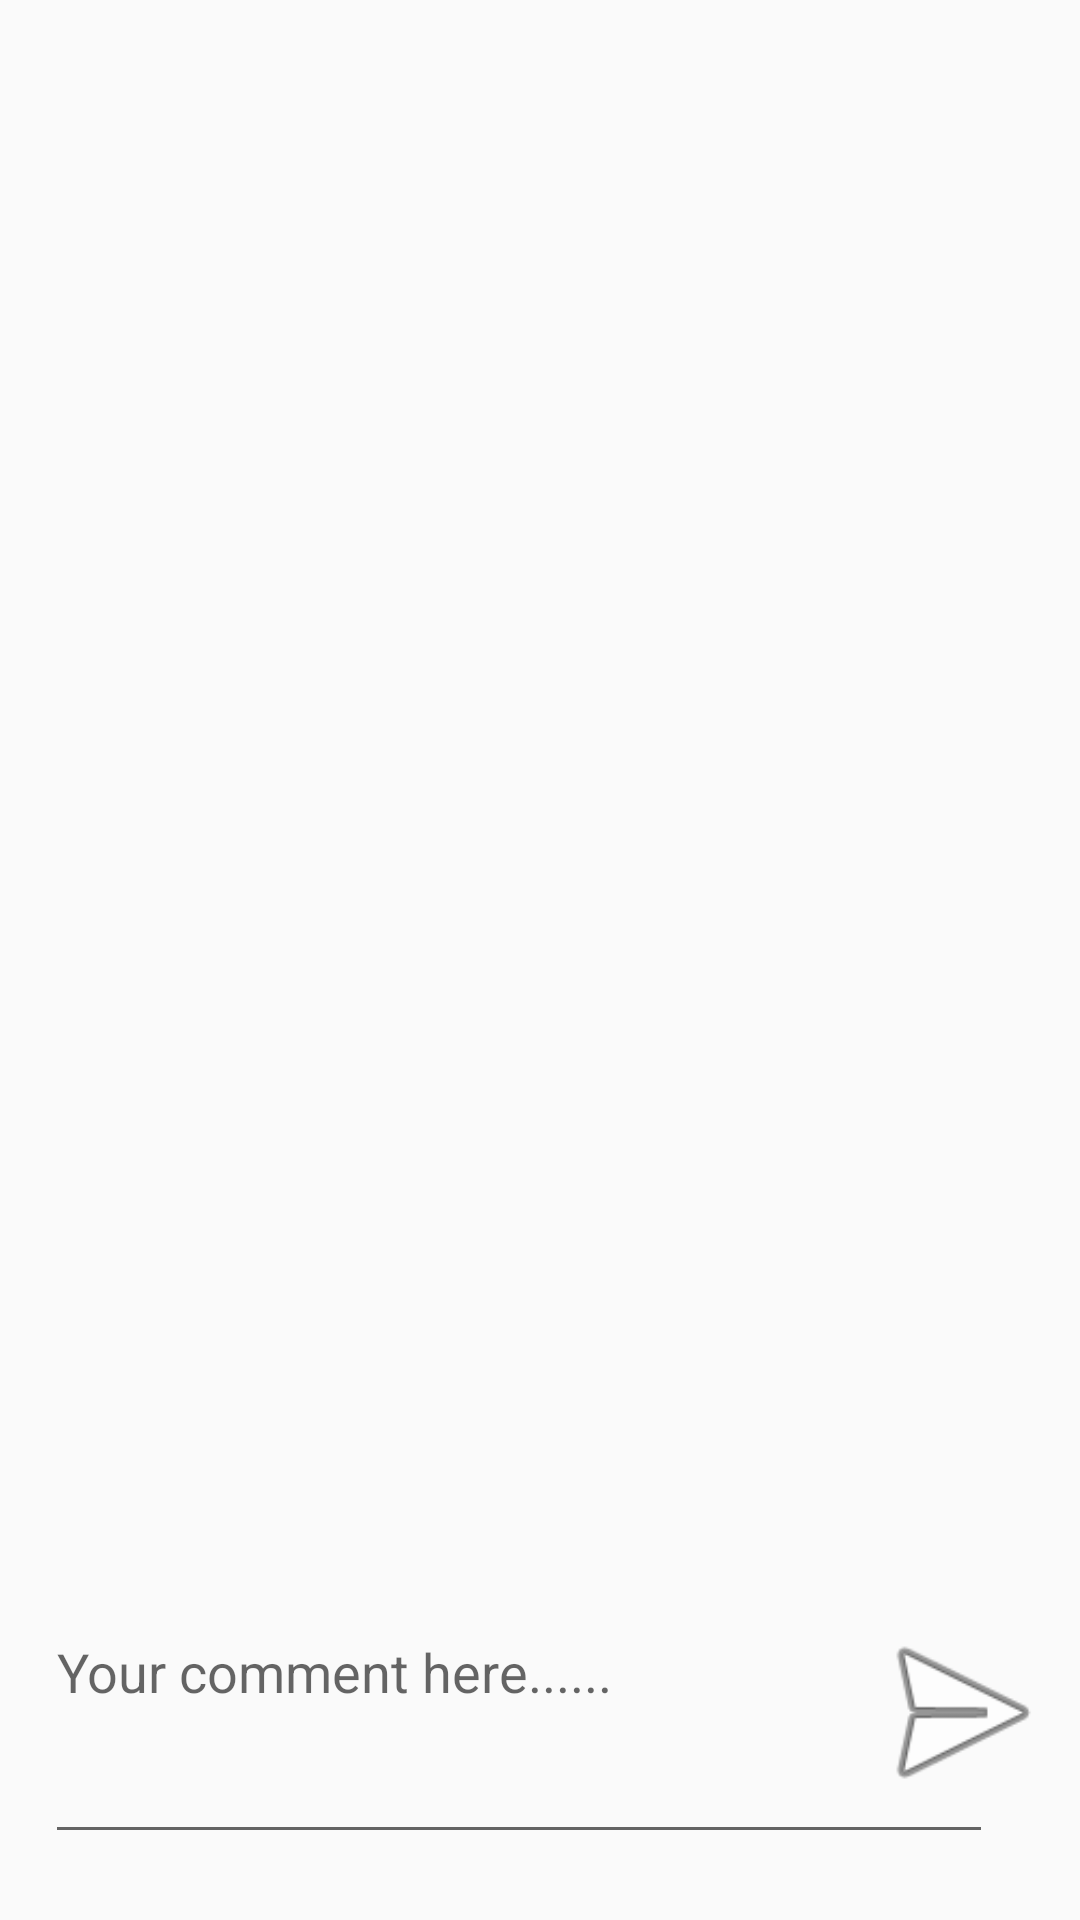

Where icons sit on this 1080w x 1920h app screen, as (x1, y1, x2, y2):
send: (897, 1647, 1030, 1778)
